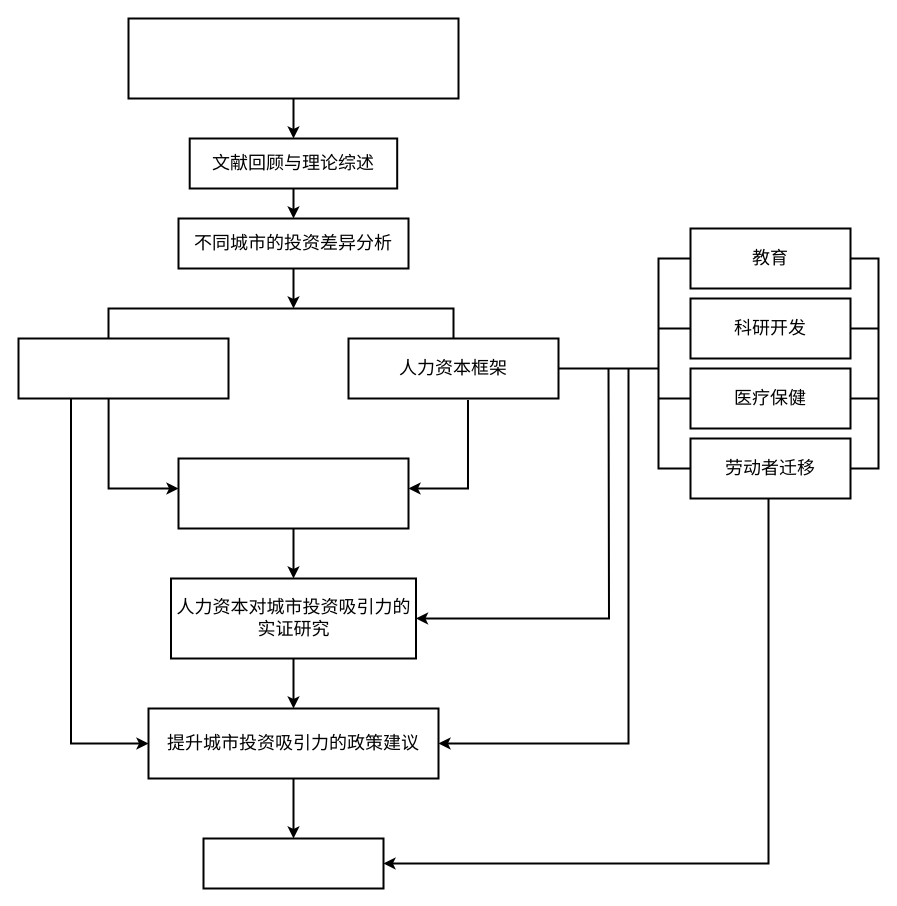
Image size: 897x906. Some labels were removed from this diagram. The box of each missing label's shape, as (x1, y1, x2, y2) in pixels:
人力资本对城市投资吸引力的影响研究: (177, 457, 409, 529)
城市投资吸引力框架: (17, 337, 229, 399)
结论和展望: (202, 837, 384, 889)
绪论：问题的提出、有关概念的界定、研究思路与方法: (127, 17, 459, 99)
